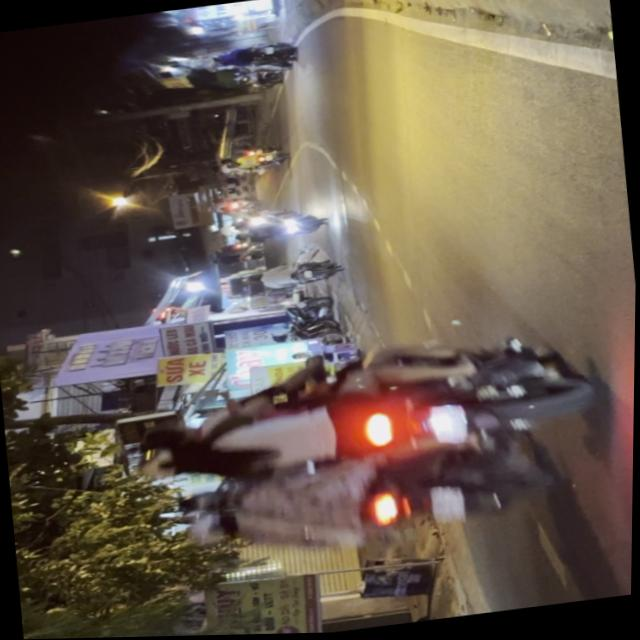helmet: (135, 445, 204, 485), (189, 511, 242, 547)
licenseplate: (122, 321, 612, 502)
motorcyclist: (137, 423, 199, 458)
nohelmet: (426, 405, 469, 449), (429, 486, 466, 526)
